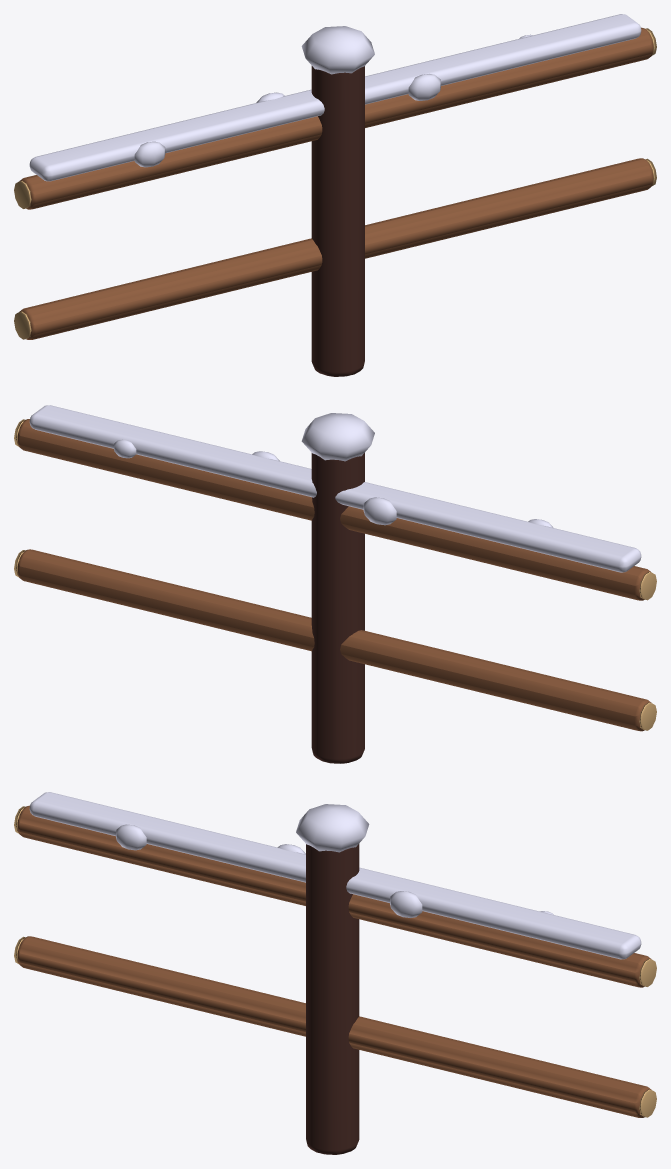
Rendered from frost_fence.glb.
The picture shows the model from 3 angles, top to bottom: view 1: azimuth 30°, elevation 25°; view 2: azimuth 150°, elevation 25°; view 3: azimuth 330°, elevation 25°; orthographic projection.
Visible parts, largest first — view 1: Fence; view 2: Fence; view 3: Fence.
Part boxes in pixels (<box>): Fence: <box>14,14,656,376</box>; Fence: <box>14,405,656,763</box>; Fence: <box>14,792,656,1154</box>.
Size of the model in its own units: 2.52 by 1.29 by 0.264.
